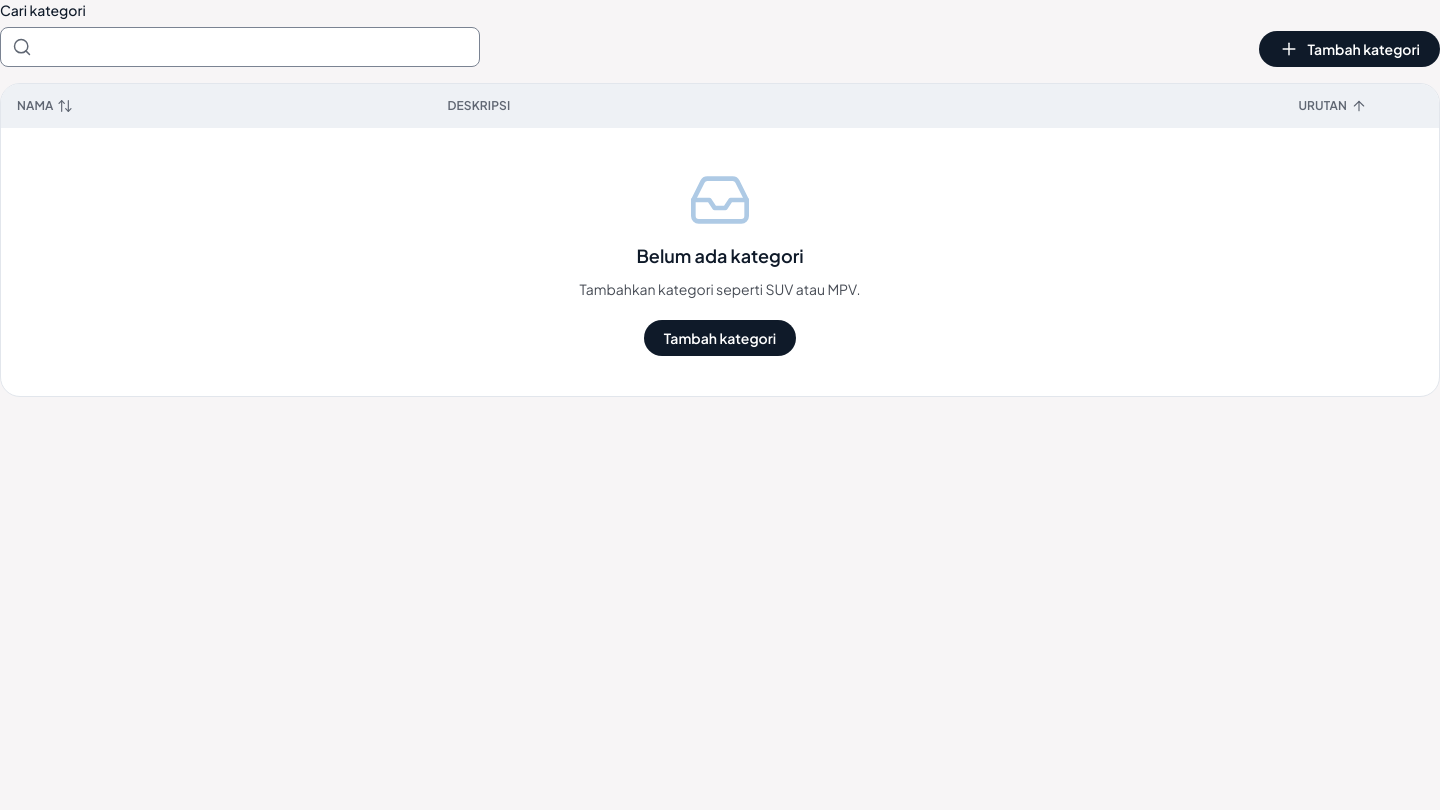
Test: CategoriesPage › rejects an order outside 0–999
This screenshot has width=1440, height=810.
Check: the heading "Belum ada kategori" is shown, box [636, 244, 804, 267]
Click the 1st button "Tambah kategori".
click(1350, 49)  # box [1260, 31, 1439, 67]
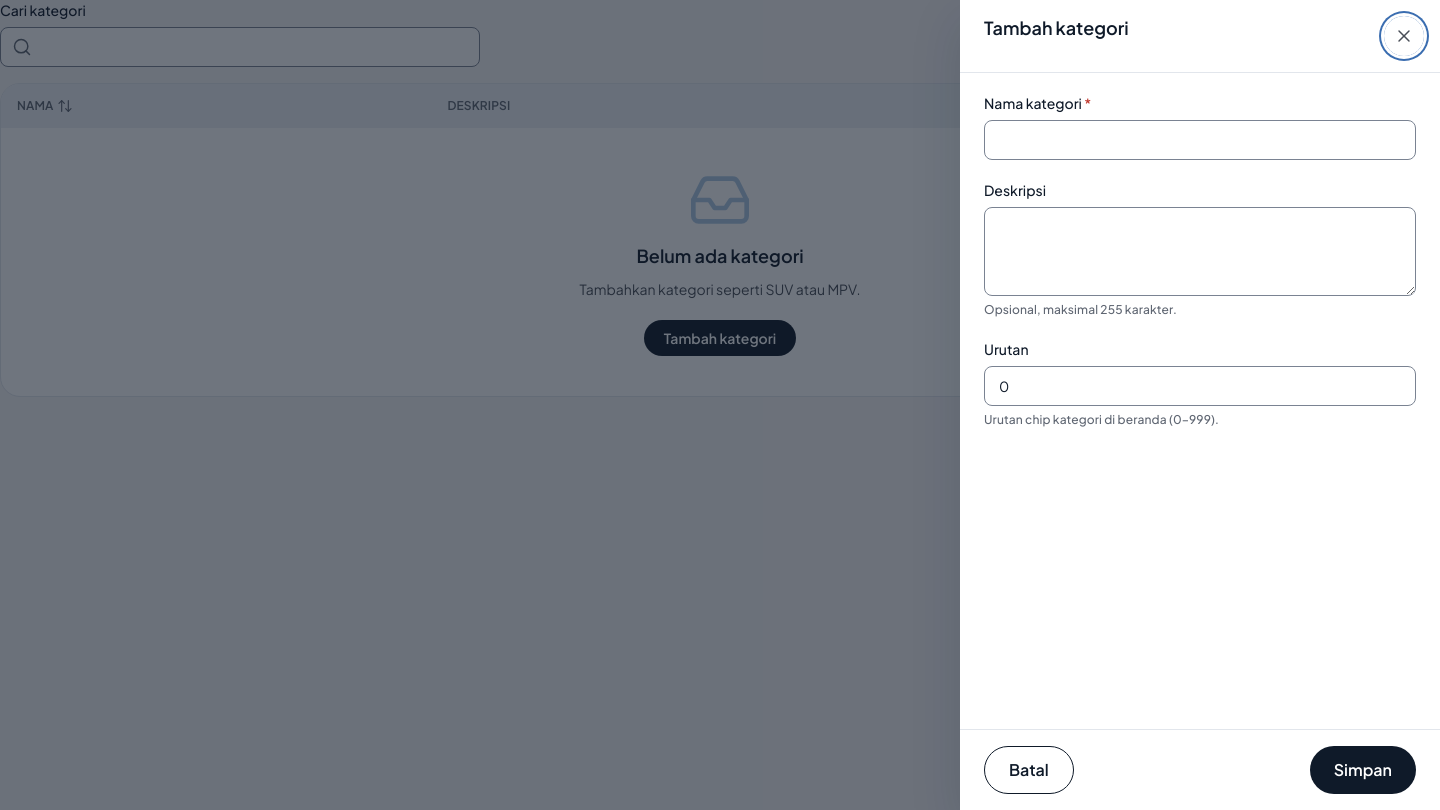
Type "MPV" into the field labelled "Nama kategori *".
click(1200, 140); type("MPV")  # box [984, 120, 1416, 160]
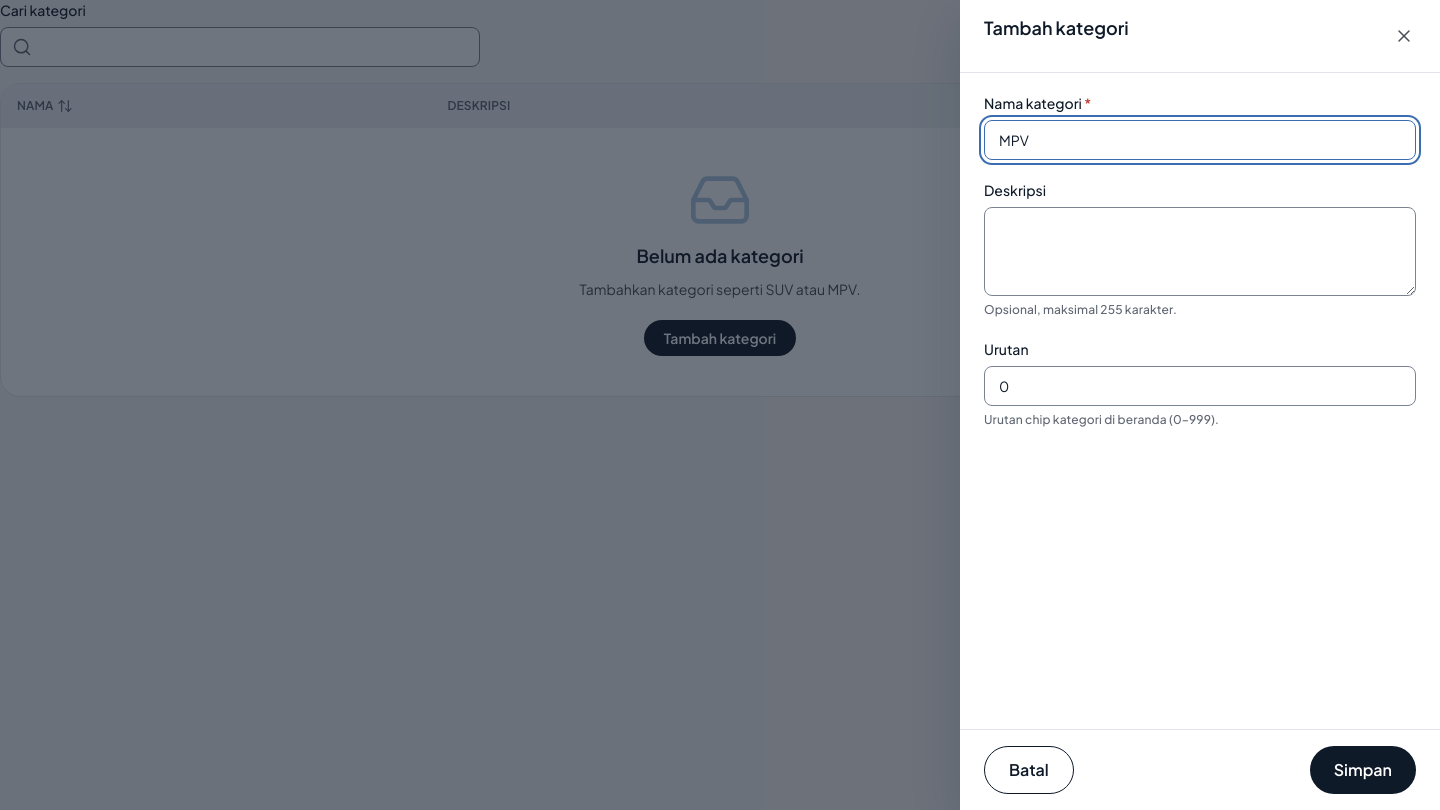
Replace the text in the number field labelled "Urutan" with "1000" at (1200, 386), box [984, 366, 1416, 406]
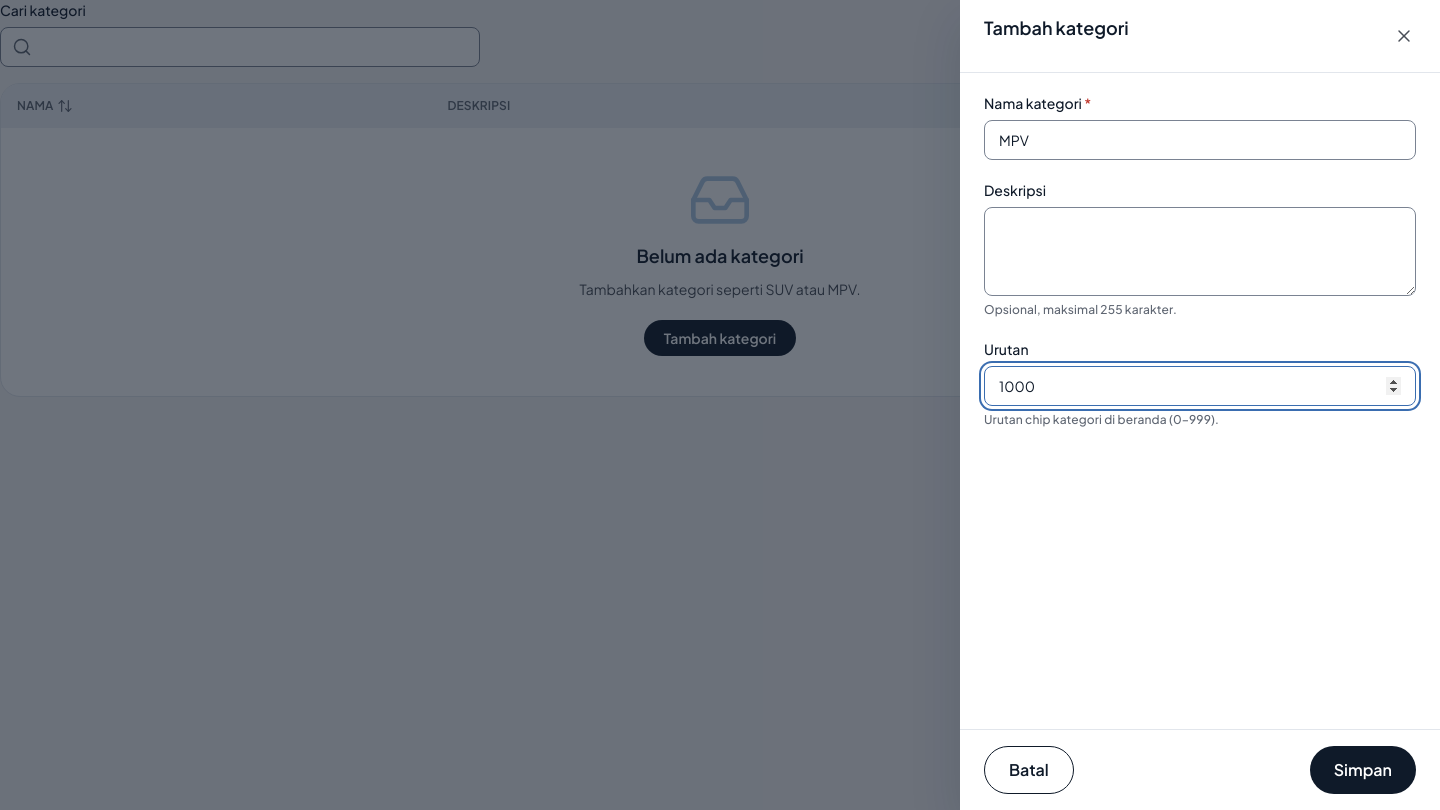
Click the button "Simpan".
click(1363, 770)  # box [1310, 746, 1416, 794]
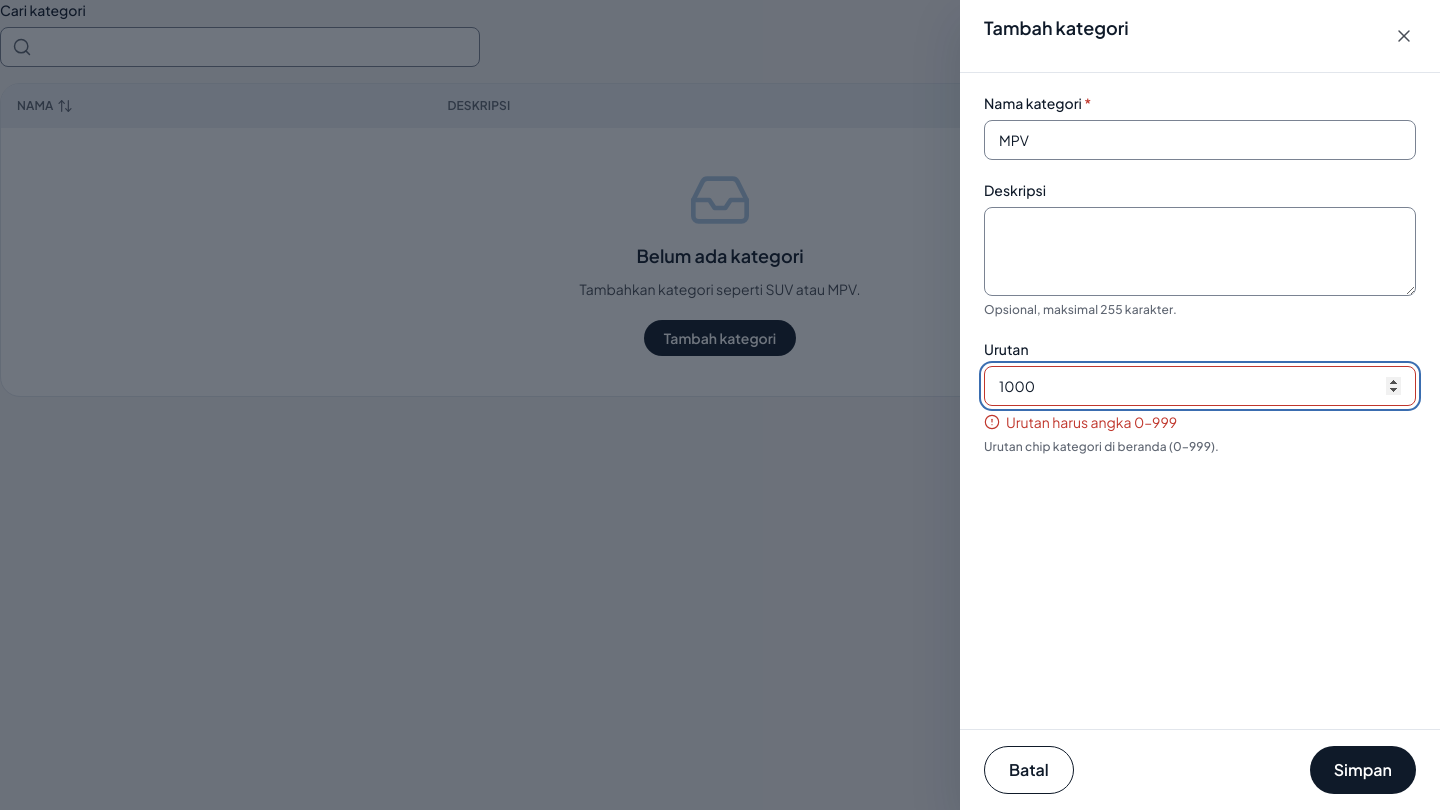
Check: the text "Urutan harus angka 0–999" is shown, box [984, 413, 1177, 431]
